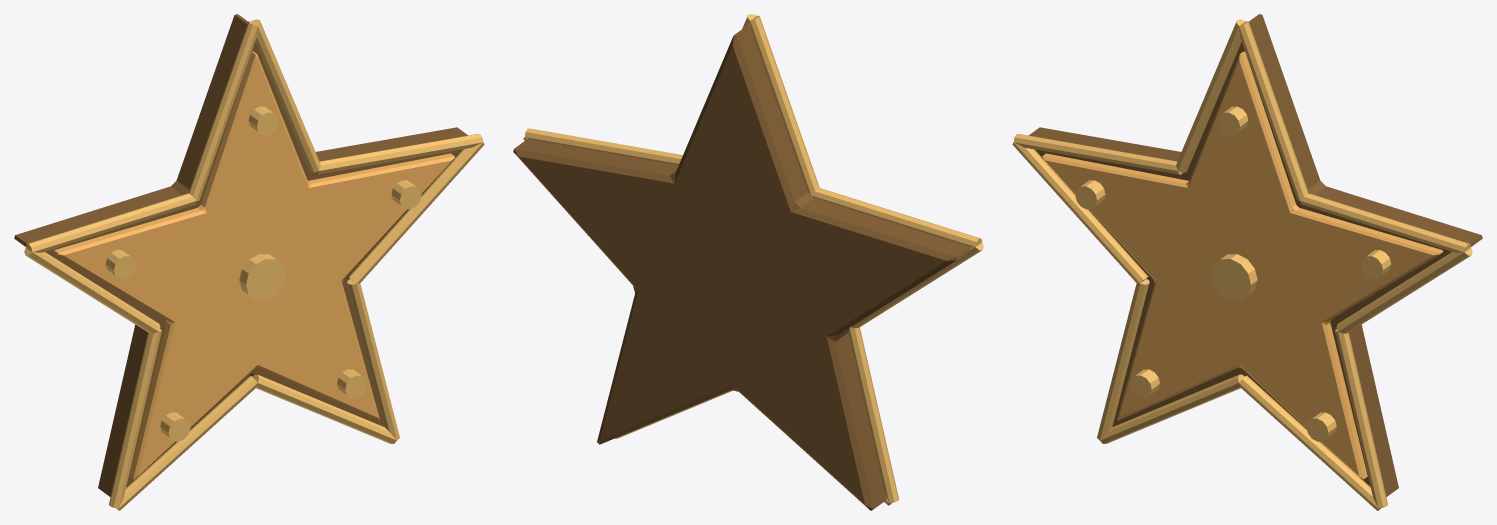
Rendered from SM_S3_BloomStar.fbx.
3 renders of one model, left to right at view 1: azimuth 30°, elevation 25°; view 2: azimuth 150°, elevation 25°; view 3: azimuth 330°, elevation 25°, orthographic.
Visible parts, largest first — view 1: SM_S3_BloomStar; view 2: SM_S3_BloomStar; view 3: SM_S3_BloomStar.
Boxes of the visible parts, x1,y1,x2,y2 form: SM_S3_BloomStar: (14,14,484,510); SM_S3_BloomStar: (513,14,983,510); SM_S3_BloomStar: (1012,14,1482,510).
Bounding box in the file's own units: 159 × 20.5 × 151.
